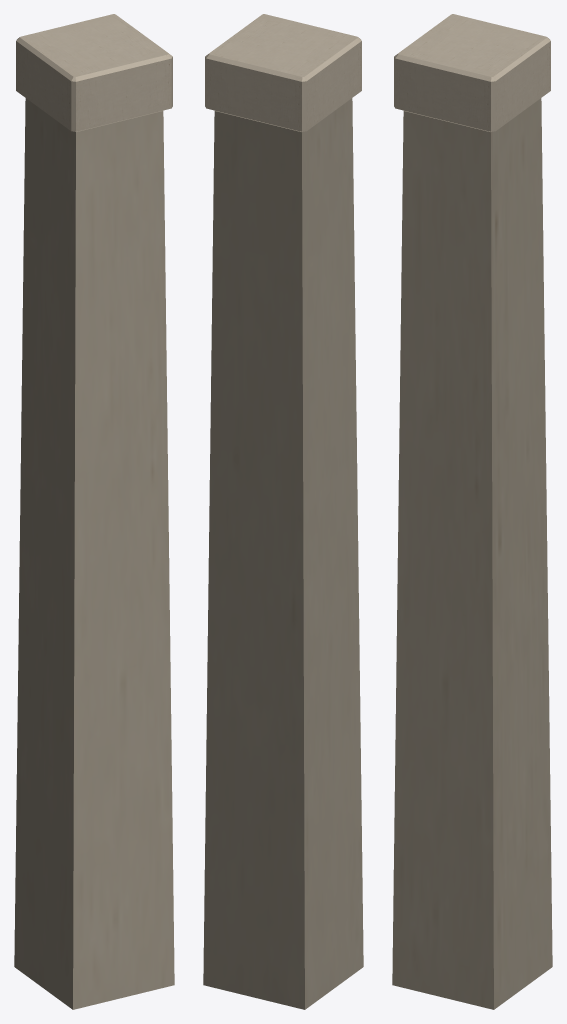
The model's file is porch_post.glb.
3 renders of one model, left to right at view 1: azimuth 30°, elevation 25°; view 2: azimuth 150°, elevation 25°; view 3: azimuth 330°, elevation 25°, orthographic.
Parts seen in each view (by area): view 1: outdoor_porch_post; view 2: outdoor_porch_post; view 3: outdoor_porch_post.
Boxes of the visible parts, <box> form: outdoor_porch_post: <box>14,14,174,1009</box>; outdoor_porch_post: <box>203,14,363,1009</box>; outdoor_porch_post: <box>392,14,552,1009</box>.
Size of the model in its own units: 0.12 by 1.05 by 0.12.
1 material, 1 textured.
